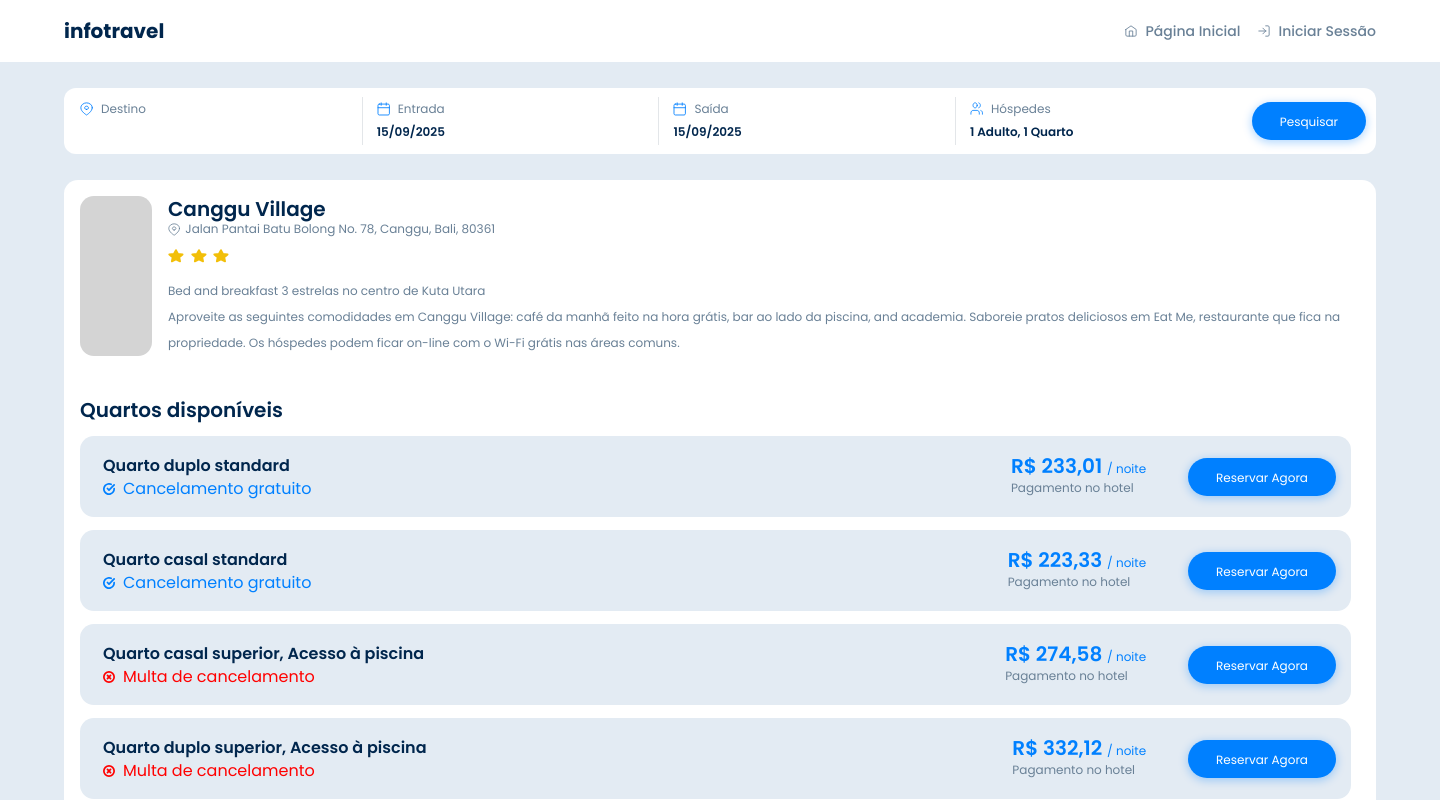
Checkout - desktop › should show errors when trying to reserve without data
Click the button "Reservar Agora" in the row of "R$ 233,01": point(1262, 478) [1188, 459, 1336, 497]
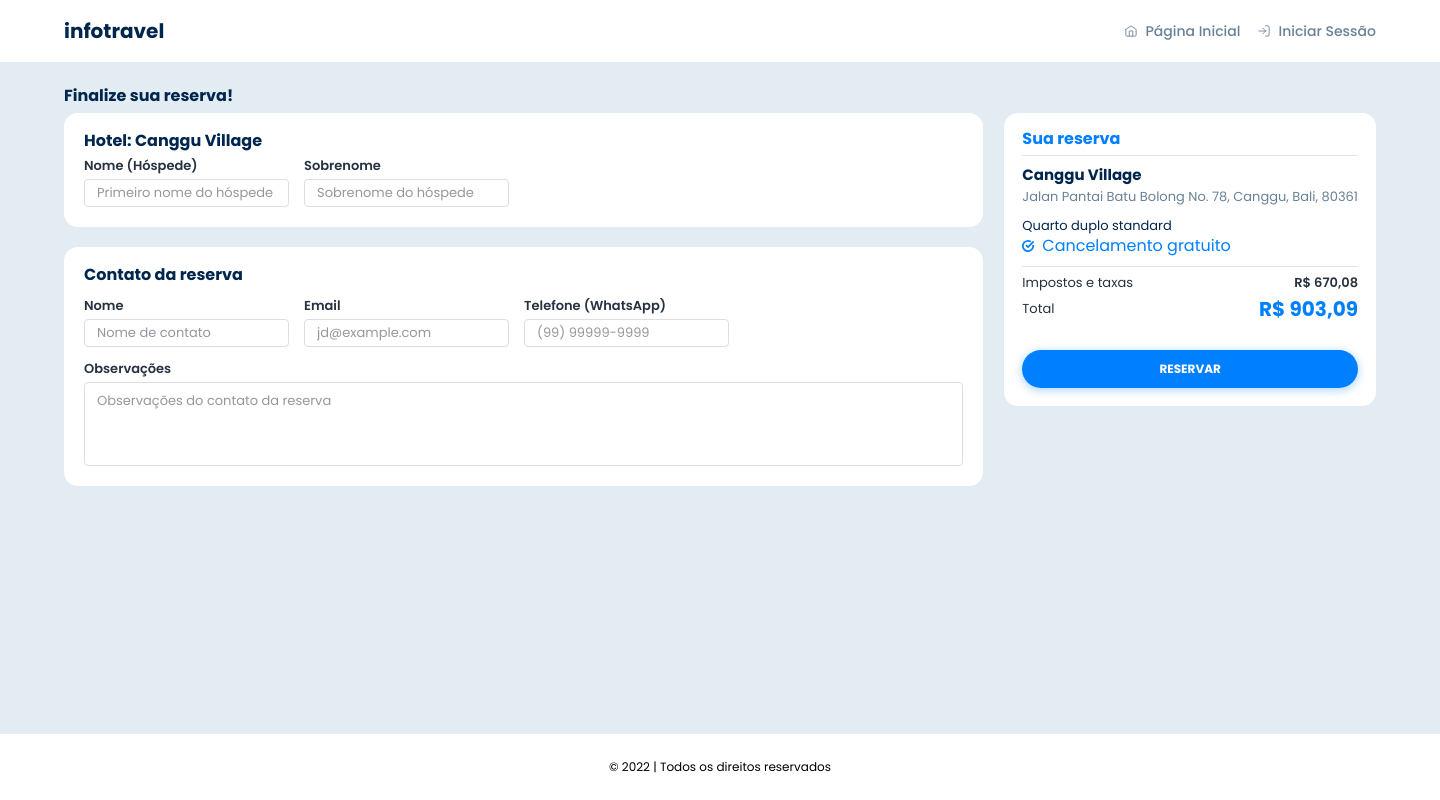
Click the button "RESERVAR": point(1190, 369) [1022, 350, 1358, 388]
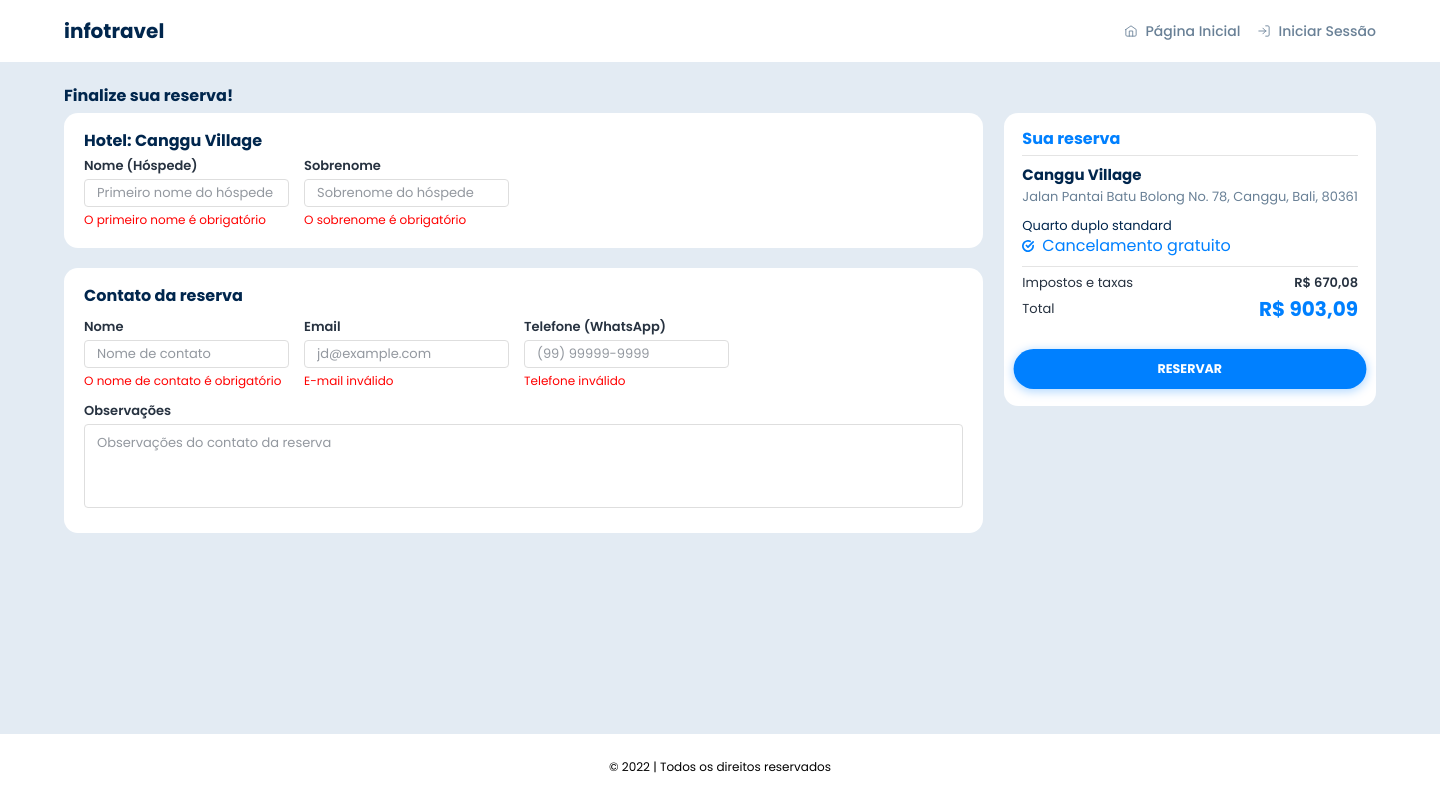
Result: the text "O primeiro nome é obrigatório" is shown at [84, 212, 289, 228]
Result: the text "O sobrenome é obrigatório" is shown at [304, 211, 466, 228]
Result: the text "O nome de contato é obrigatório" is shown at [84, 373, 289, 389]
